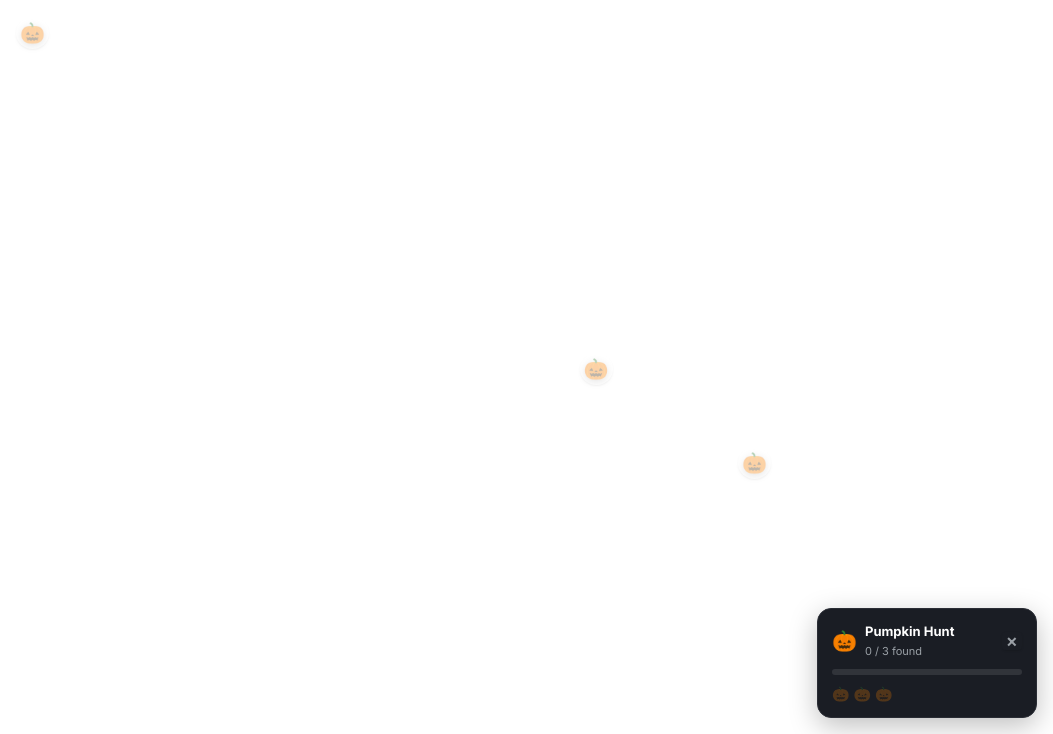
Scenario: clicking a pumpkin removes it and updates the tracker
Click the button named "Hidden Pumpkin 1": coordinates (596, 369) [580,353,613,385]
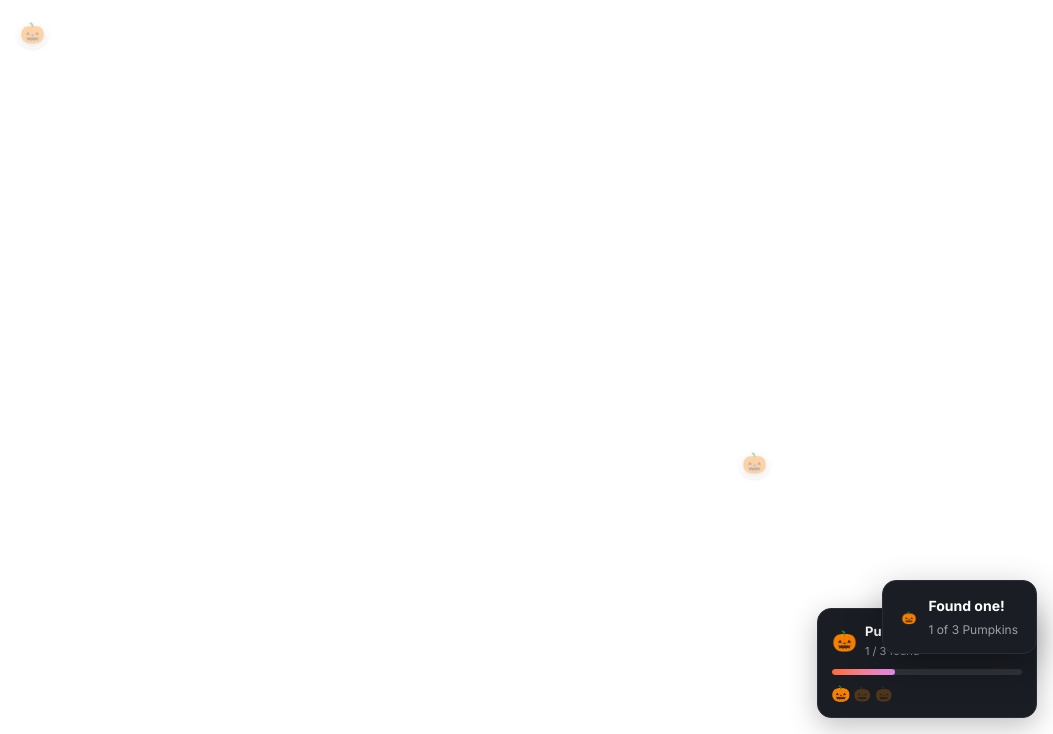
Now the text "1 / 3 found" is shown, box [865,644,920,658]
Now the number of buttons named "Hidden Pumpkin" is 2, box [16,17,49,49]; [738,446,771,478]
